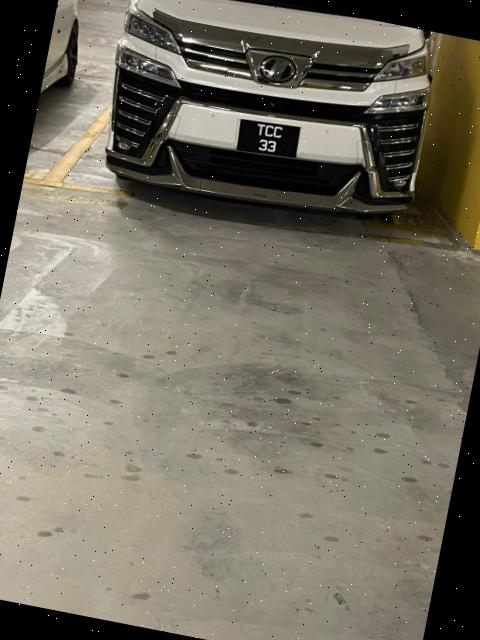License_Plate: (238, 116, 297, 161)
car: (74, 1, 453, 242)
